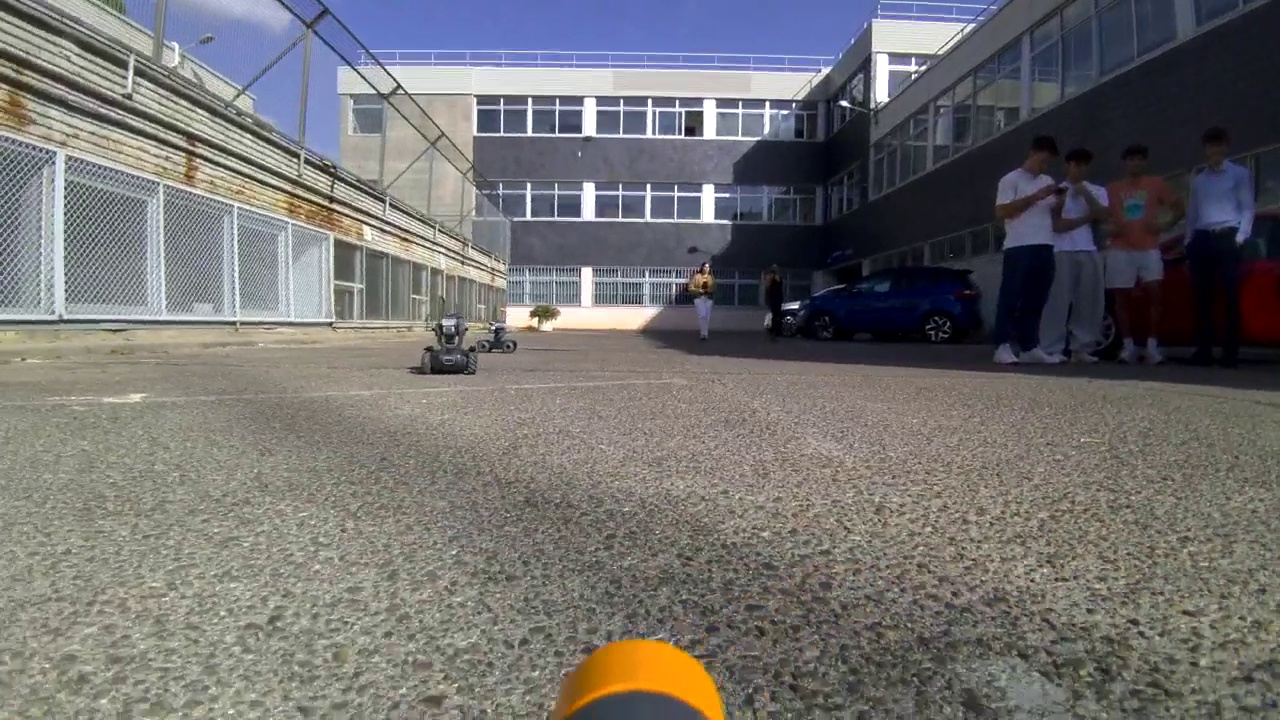robot: (417, 308, 476, 382), (477, 316, 518, 357)
